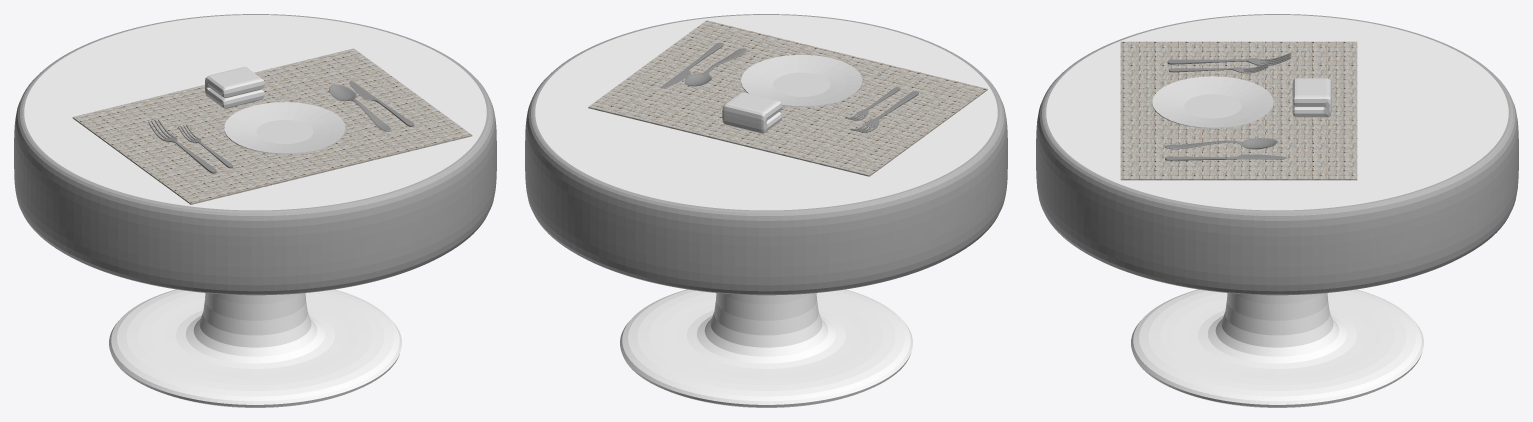
Rendered from tabel002.fbx.
3 renders of one model, left to right at view 1: azimuth 30°, elevation 25°; view 2: azimuth 150°, elevation 25°; view 3: azimuth 270°, elevation 25°, orthographic.
Parts seen in each view (by area): view 1: 실린더.002, 평면.035, 원형.042, 평면.034, spoon.004, Fork.008, Knife.004; view 2: 실린더.002, 평면.035, 원형.042, 평면.034, spoon.004, Fork.008; view 3: 실린더.002, 평면.035, 원형.042, 평면.034, Fork.008, spoon.004, Knife.004.
Boxes of the visible parts, x1=… form: 실린더.002: x1=14, y1=14, x2=496, y2=407; 평면.035: x1=72, y1=48, x2=472, y2=204; 원형.042: x1=224, y1=102, x2=345, y2=154; 평면.034: x1=205, y1=66, x2=264, y2=108; spoon.004: x1=329, y1=84, x2=390, y2=131; Fork.008: x1=148, y1=119, x2=216, y2=173; Knife.004: x1=349, y1=81, x2=414, y2=126; 실린더.002: x1=525, y1=14, x2=1007, y2=407; 평면.035: x1=588, y1=20, x2=987, y2=176; 원형.042: x1=741, y1=55, x2=862, y2=106; 평면.034: x1=722, y1=92, x2=782, y2=133; spoon.004: x1=684, y1=48, x2=746, y2=86; Fork.008: x1=850, y1=91, x2=918, y2=132; 실린더.002: x1=1036, y1=14, x2=1518, y2=407; 평면.035: x1=1120, y1=41, x2=1357, y2=180; 원형.042: x1=1152, y1=76, x2=1273, y2=128; 평면.034: x1=1292, y1=78, x2=1331, y2=117; Fork.008: x1=1167, y1=53, x2=1291, y2=65; spoon.004: x1=1164, y1=138, x2=1277, y2=149; Knife.004: x1=1165, y1=154, x2=1286, y2=160.
Bounding box in the file's own units: 331 × 198 × 331.
